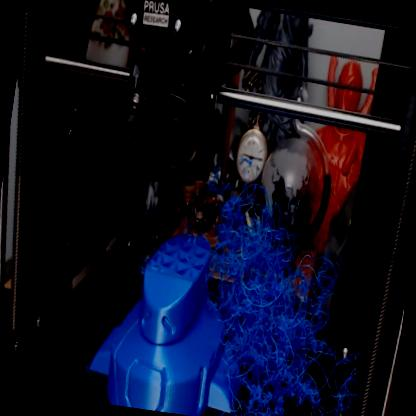fail: (191, 179, 387, 416)
